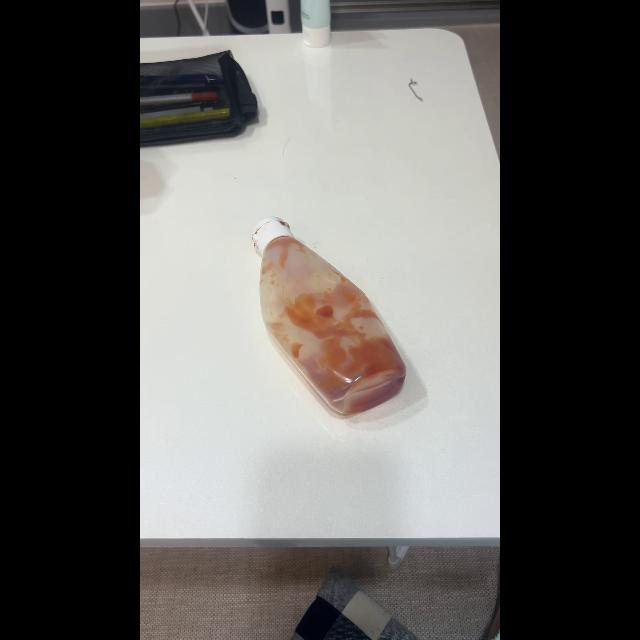dirty: (260, 220, 406, 416)
